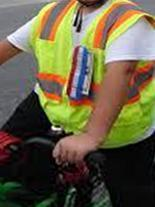Vest: (39, 1, 152, 147)
